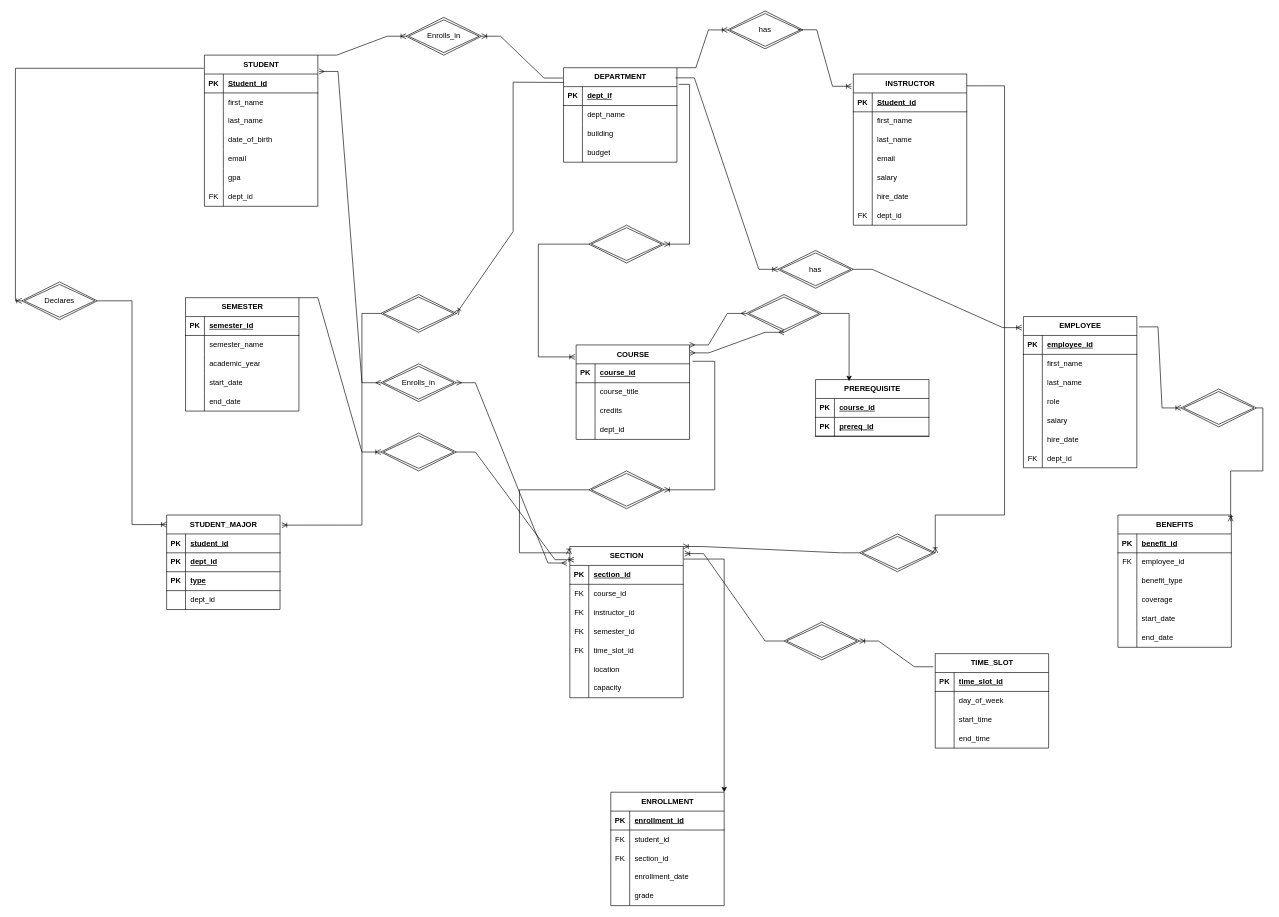
Image size: 1279x917. Some labels were removed from this diagram. Each missing label, with the centre of its shape:
"Assigned_to" goes at pixel 821 640.
"Contains" goes at pixel 418 451.
"Is_declared_in" goes at pixel 418 313.
"Offered_as" goes at pixel 626 489.
"Offers" goes at pixel 626 244.
"Recieves" goes at pixel 1218 407.
"Requires" goes at pixel 784 313.
"Teaches" goes at pixel 897 552.
